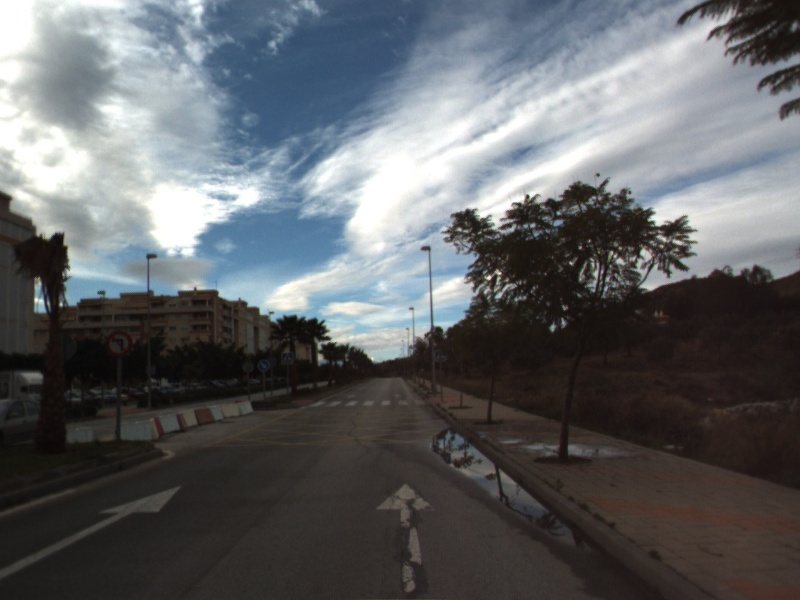STRAIGHT: (1, 484, 183, 580), (374, 481, 439, 595)
